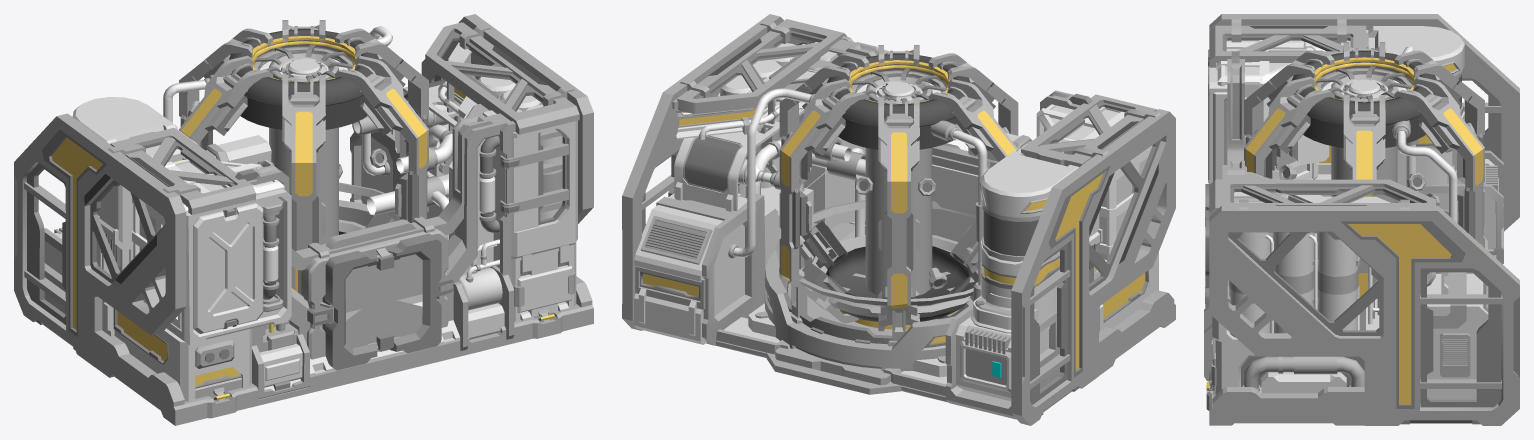
File: Prototech_Reactor_LOD3.fbx
3 renders of one model, left to right at view 1: azimuth 30°, elevation 25°; view 2: azimuth 150°, elevation 25°; view 3: azimuth 270°, elevation 25°, orthographic. The views are drawn at different scales.
Visible parts, largest first — view 1: Cube.264, Cube.273, Plane.027, Cylinder.143, Prot_Assembler_PaintedDarker_01.009, Prot_Assembler_PaintedDarker_06.027, Prot_Assembler_PaintedColorable_02.020, Cylinder.065, Prot_Assembler_PaintedVeryDark_04.013, 2_ReactorPole01.016, 2_ReactorPole01.015, Cube.285 (+41 smaller); view 2: Cube.264, Cylinder.143, Cube.285, Cube.276, Plane.027, 2_ReactorPole01.013, 2_ReactorPole01.012, EMC Cylinder.017, Cylinder.134, EMC Cylinder.016, Cube.319, 2_ReactorPole01.014 (+38 smaller); view 3: Cube.264, Cube.319, Plane.027, Cylinder.143, Cylinder.158, 2_ReactorPole01.013, Cylinder.134, Cube.318, Cylinder.065, 2_ReactorPole01.015, Cube.276, 2_ReactorPole01.014 (+30 smaller).
Part boxes in pixels (box(x1,y1,x2,y2)): Cube.264: box(14, 14, 593, 366); Cube.273: box(97, 130, 291, 401); Plane.027: box(110, 22, 579, 214); Cylinder.143: box(229, 29, 379, 244); Prot_Assembler_PaintedDarker_01.009: box(298, 228, 448, 359); Prot_Assembler_PaintedDarker_06.027: box(94, 304, 593, 425); Prot_Assembler_PaintedColorable_02.020: box(193, 203, 263, 333); Cylinder.065: box(427, 120, 577, 321); Prot_Assembler_PaintedVeryDark_04.013: box(324, 233, 441, 370); 2_ReactorPole01.016: box(282, 74, 325, 292); 2_ReactorPole01.015: box(335, 55, 428, 222); Cube.285: box(44, 131, 514, 399); Cube.264: box(622, 14, 1175, 425); Cylinder.143: box(826, 54, 972, 321); Cube.285: box(656, 193, 1059, 419); Cube.276: box(633, 109, 804, 344); Plane.027: box(677, 19, 1156, 166); 2_ReactorPole01.013: box(779, 79, 869, 323); 2_ReactorPole01.012: box(878, 97, 919, 346); EMC Cylinder.017: box(764, 223, 959, 371); Cylinder.134: box(981, 151, 1078, 329); EMC Cylinder.016: box(775, 200, 975, 344); Cube.319: box(642, 139, 1160, 404); 2_ReactorPole01.014: box(779, 53, 869, 291); Cube.264: box(1209, 14, 1519, 425); Cube.319: box(1228, 40, 1501, 407); Plane.027: box(1209, 25, 1435, 216); Cylinder.143: box(1291, 51, 1437, 281); Cylinder.158: box(1229, 232, 1357, 337); 2_ReactorPole01.013: box(1394, 76, 1484, 247); Cylinder.134: box(1368, 26, 1464, 185); Cube.318: box(1349, 224, 1451, 404); Cylinder.065: box(1212, 314, 1364, 394); 2_ReactorPole01.015: box(1244, 76, 1334, 176); Cube.276: box(1359, 272, 1488, 399); 2_ReactorPole01.014: box(1343, 94, 1385, 297).
Size of what is drawn, in the model's own units: 750 by 452 by 508.
